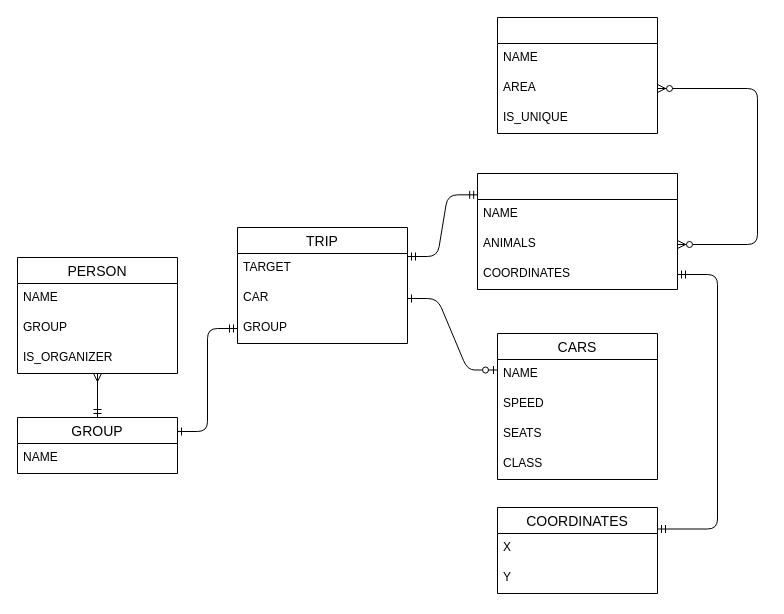
This 784x614 diagram has some shape labels left out. Each missing label, with the box of its shape:
ANIMAL: (496, 16, 658, 134)
PLACE: (476, 172, 678, 290)
